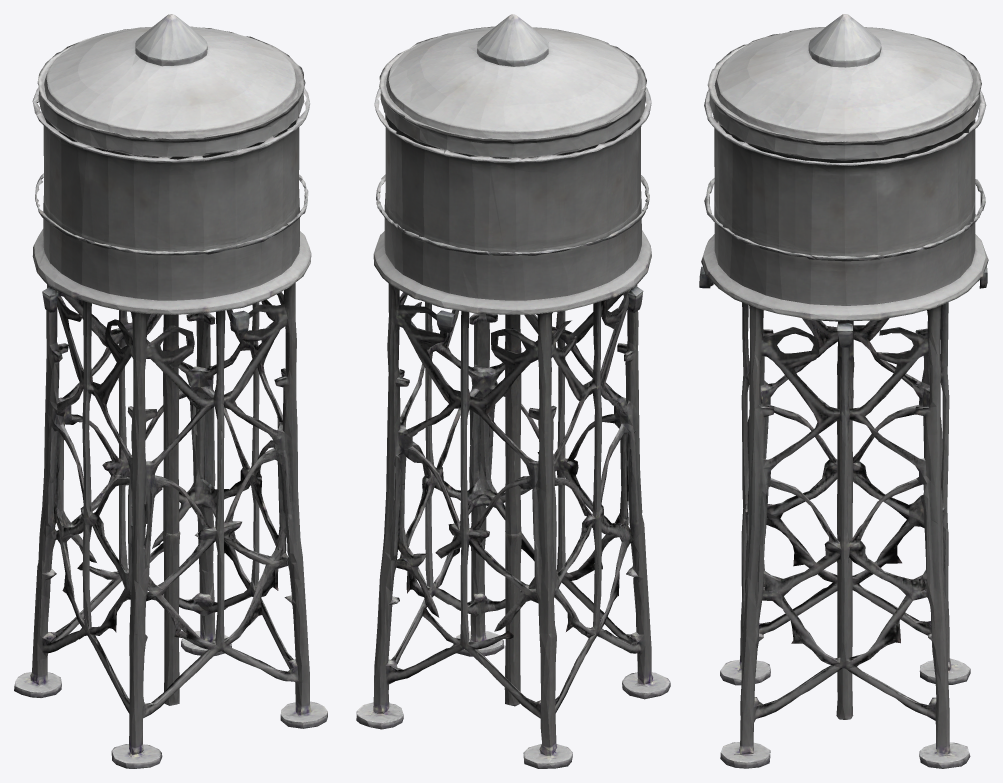
The model's file is water_tank.glb.
3 views of the same model, side by side, from view 1: azimuth 30°, elevation 25°; view 2: azimuth 150°, elevation 25°; view 3: azimuth 270°, elevation 25° (orthographic). The views are drawn at different scales.
Visible parts, largest first — view 1: world; view 2: world; view 3: world.
Part boxes in pixels (box(x1,y1,x2,y2)): world: box(14, 14, 327, 768); world: box(356, 14, 670, 768); world: box(699, 14, 988, 768).
Bounding box in the file's own units: 0.3829 × 0.9992 × 0.373.
Materials: 1 (1 with a texture image).
